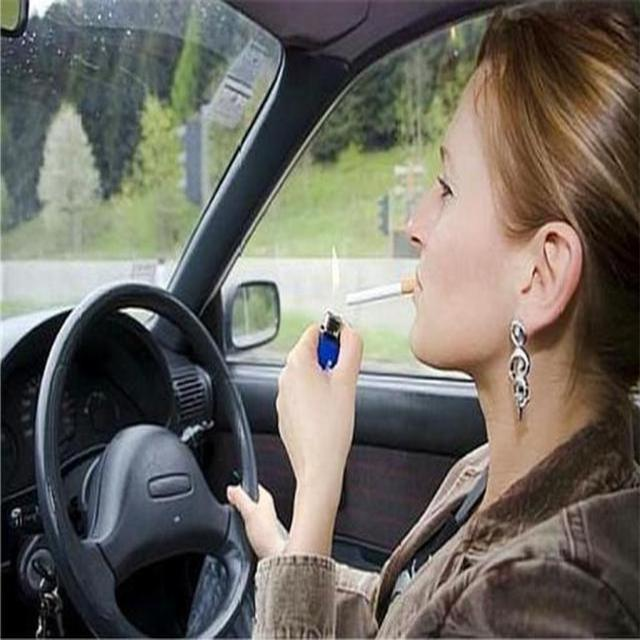smoking: (265, 0, 640, 494)
